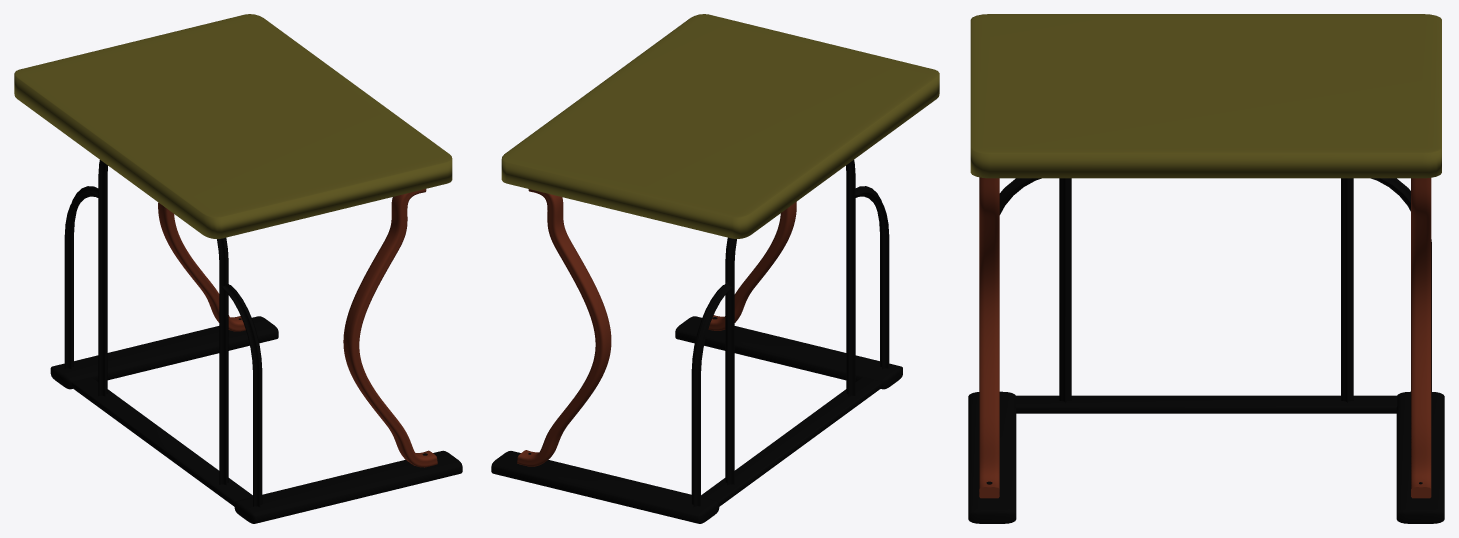
File: desk2.fbx
3 renders of one model, left to right at view 1: azimuth 30°, elevation 25°; view 2: azimuth 150°, elevation 25°; view 3: azimuth 270°, elevation 25°, orthographic. The views are drawn at different scales.
Visible parts, largest first — view 1: Cube.002, Cube.006, Circle.002, NurbsPath, Cube.001, NurbsPath.001; view 2: Cube.002, Cube.006, Circle.002, NurbsPath.001, Cube.001, NurbsPath; view 3: Cube.002, Cube.006, Cube.001, Circle.002, NurbsPath.001, NurbsPath.
Part boxes in pixels (left/top/right/bottom): Cube.002: left=14, top=14, right=452, bottom=238; Cube.006: left=50, top=316, right=462, bottom=523; Circle.002: left=64, top=160, right=262, bottom=506; NurbsPath: left=343, top=189, right=437, bottom=467; Cube.001: left=71, top=377, right=252, bottom=506; NurbsPath.001: left=158, top=202, right=245, bottom=331; Cube.002: left=501, top=14, right=939, bottom=238; Cube.006: left=491, top=316, right=902, bottom=523; Circle.002: left=691, top=160, right=889, bottom=506; NurbsPath.001: left=517, top=189, right=611, bottom=466; Cube.001: left=701, top=377, right=882, bottom=506; NurbsPath: left=708, top=202, right=796, bottom=330; Cube.002: left=970, top=14, right=1441, bottom=178; Cube.006: left=968, top=391, right=1444, bottom=523; Cube.001: left=1015, top=395, right=1397, bottom=413; Circle.002: left=999, top=178, right=1431, bottom=402; NurbsPath.001: left=1411, top=178, right=1431, bottom=498; NurbsPath: left=979, top=177, right=999, bottom=498.
Bounding box in the file's own units: 108 × 130 × 152.
